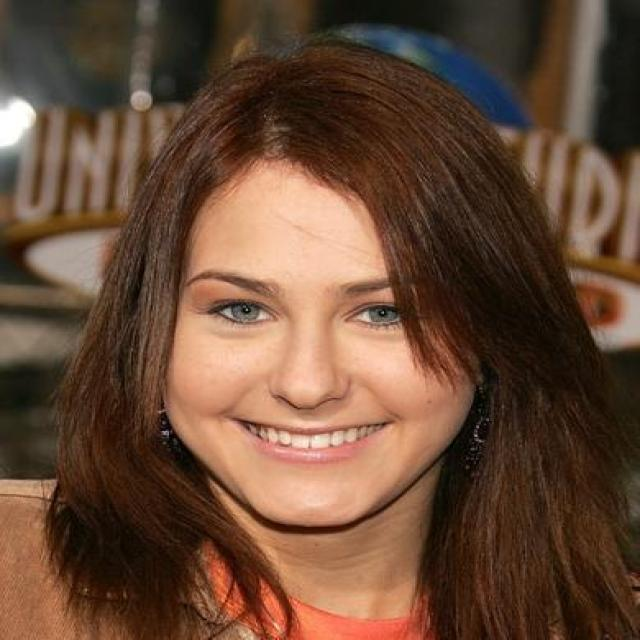0_rostro_limpio: (154, 121, 494, 541)
